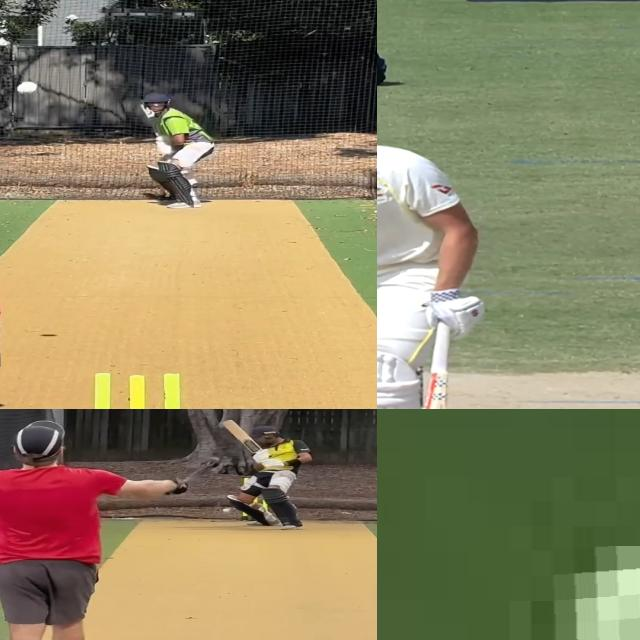Cricket ball: (547, 546, 640, 640), (16, 81, 42, 97), (222, 508, 232, 513)
Stumps: (75, 372, 204, 409)
